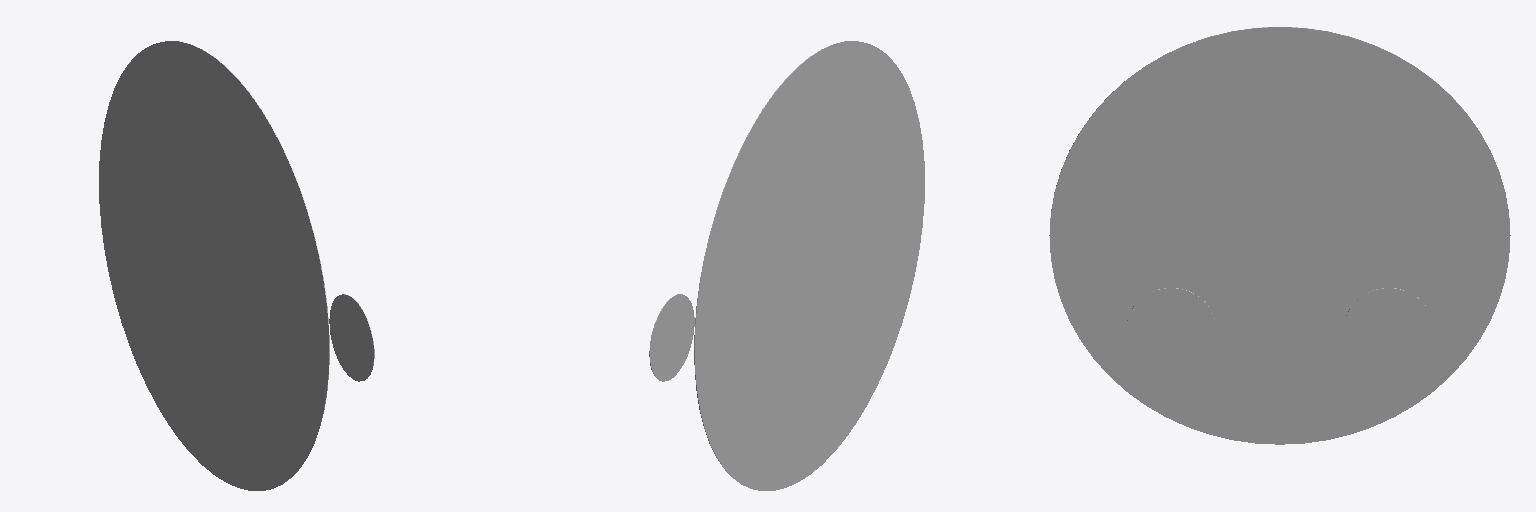
File: PHI-Wind-BIS.obj
3 views of the same model, side by side, from view 1: azimuth 30°, elevation 25°; view 2: azimuth 150°, elevation 25°; view 3: azimuth 270°, elevation 25° (orthographic).
Visible parts, largest first — view 1: frontal_plate_A (Meshed), knob_001_A (Meshed); view 2: frontal_plate_A (Meshed), knob_002_A (Meshed); view 3: frontal_plate_A (Meshed), knob_001_A (Meshed), knob_002_A (Meshed).
Part boxes in pixels (bbox=[...]): frontal_plate_A (Meshed): bbox=[99, 41, 329, 490]; knob_001_A (Meshed): bbox=[329, 294, 374, 381]; frontal_plate_A (Meshed): bbox=[694, 41, 924, 490]; knob_002_A (Meshed): bbox=[649, 294, 694, 381]; frontal_plate_A (Meshed): bbox=[1049, 27, 1510, 444]; knob_001_A (Meshed): bbox=[1127, 288, 1215, 368]; knob_002_A (Meshed): bbox=[1344, 288, 1433, 368].
Bounding box in the file's own units: 15.1 × 72 × 72.